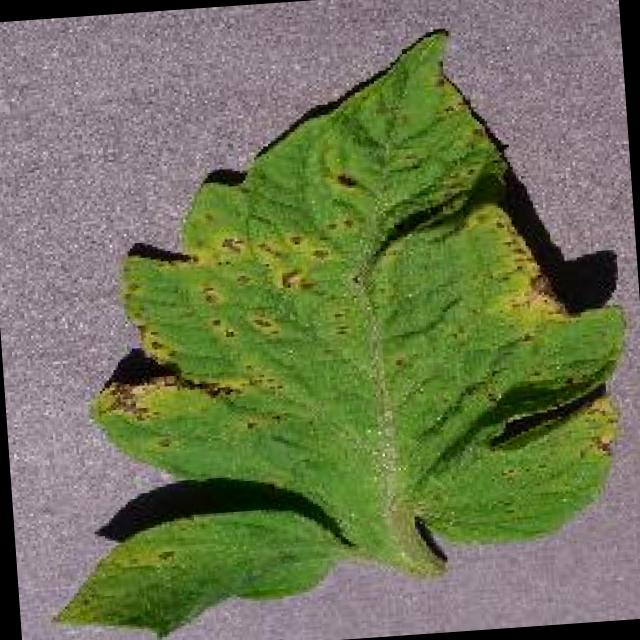leaf_spot: (58, 36, 621, 637)
